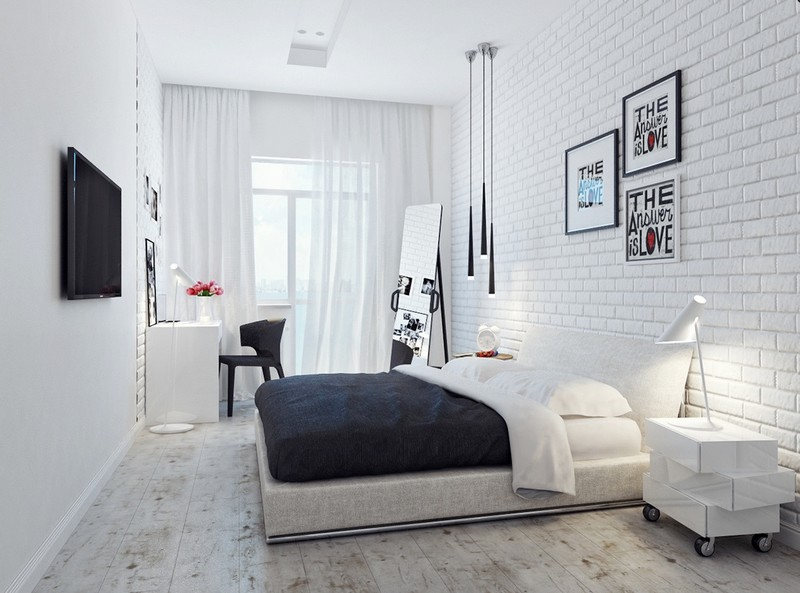bed: (256, 325, 699, 548)
chair: (221, 319, 291, 416)
lamp: (655, 295, 723, 434)
stool: (643, 413, 797, 558)
table: (144, 319, 221, 426)
